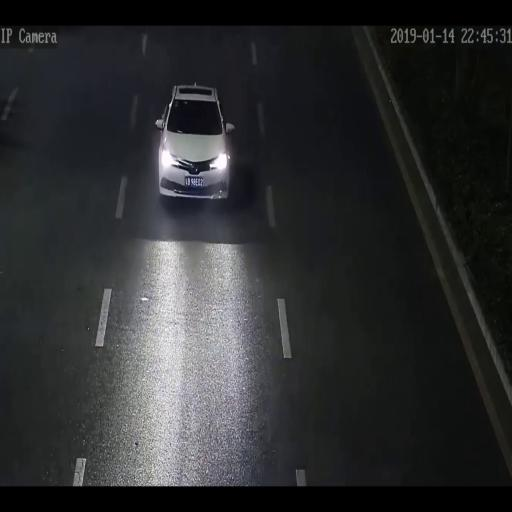License plate: (185, 176, 203, 188)
Vehicle: (155, 82, 235, 200)
